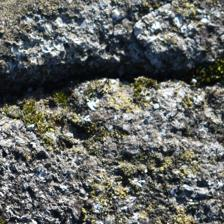Crack: (2, 18, 215, 99)
